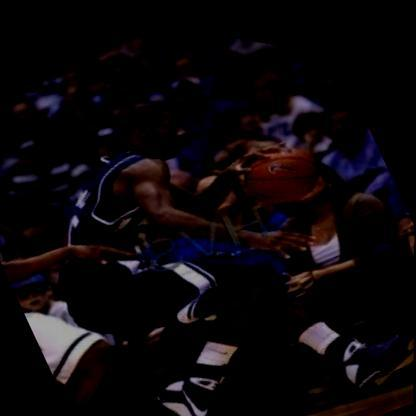basketball: (224, 110, 336, 222)
